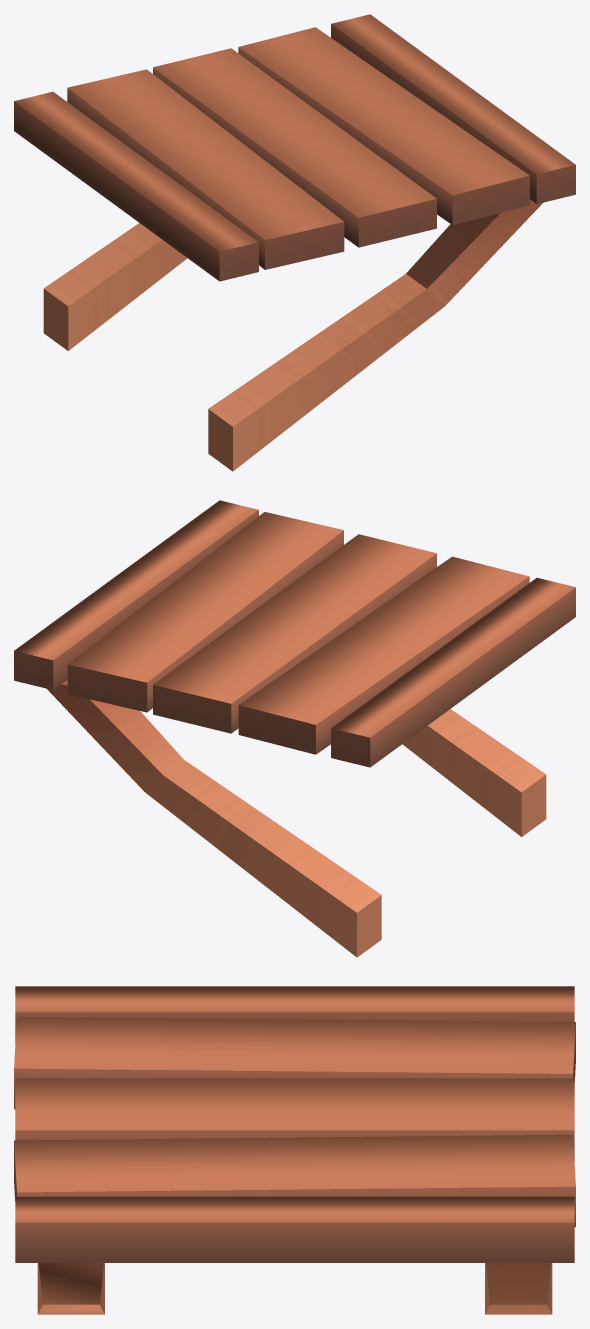
Rendered from structure-platform-mountain.glb.
The picture shows the model from 3 angles, top to bottom: view 1: azimuth 30°, elevation 25°; view 2: azimuth 150°, elevation 25°; view 3: azimuth 270°, elevation 25°; orthographic projection. The views are drawn at different scales.
Parts seen in each view (by area): view 1: structure-platform; view 2: structure-platform; view 3: structure-platform.
Part boxes in pixels (x1,y1,x2,y2): structure-platform: [14, 14, 575, 471]; structure-platform: [14, 500, 575, 957]; structure-platform: [14, 986, 575, 1314].
Bounding box in the file's own units: 1.99 × 1.23 × 2.
1 material, 1 textured.
